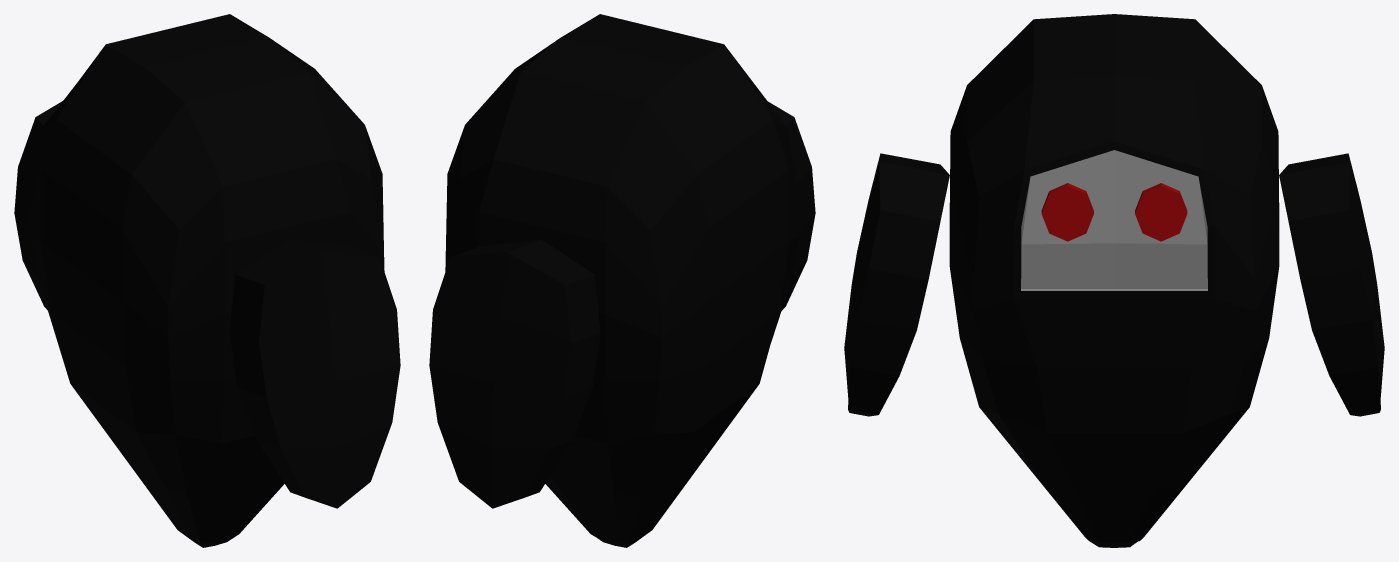
Rendered from robot.fbx.
The picture shows the model from 3 angles, left to right: view 1: azimuth 30°, elevation 25°; view 2: azimuth 150°, elevation 25°; view 3: azimuth 270°, elevation 25°; orthographic projection. The views are drawn at different scales.
Parts seen in each view (by area): view 1: cuerpo; view 2: cuerpo; view 3: cuerpo.
Boxes of the visible parts, x1,y1,x2,y2 form: cuerpo: (14, 14, 400, 547); cuerpo: (429, 14, 815, 547); cuerpo: (844, 14, 1384, 547).
Size of the model in its own units: 159 by 294 by 286.
